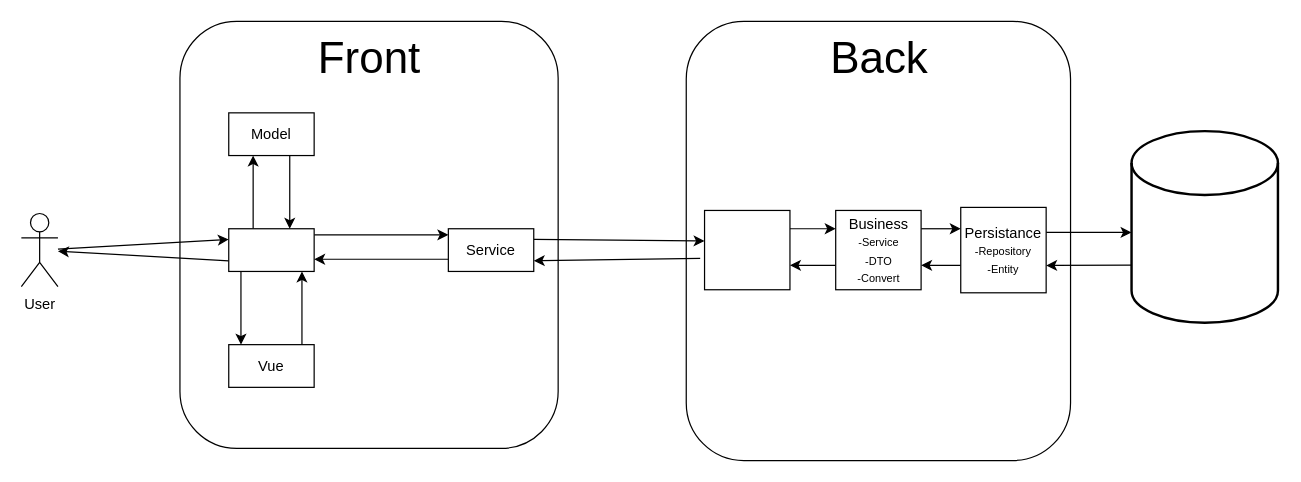
The diagram is 1301 pixels wide and 482 high, and some of its shapes have lost their labels. Each missing label, with the centre of its shape:
"BDD" goes at (1204,226).
"Controller" goes at (271,249).
"Présentation -Controller" goes at (746,249).
